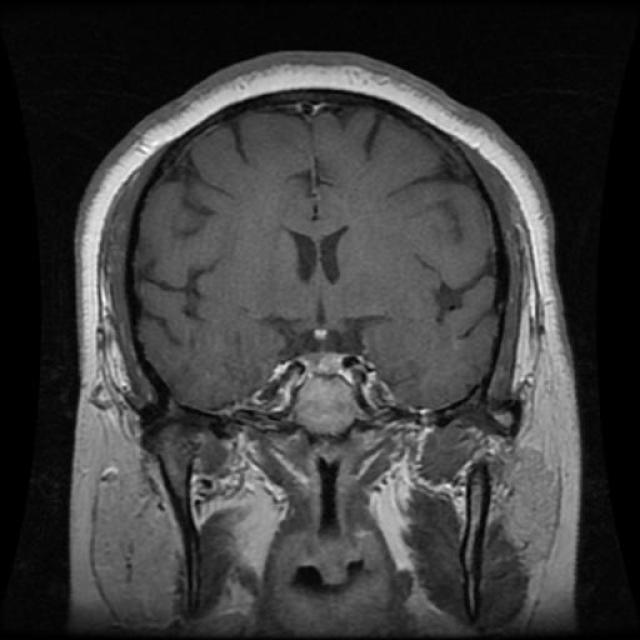pituitary: (268, 326, 388, 440)
